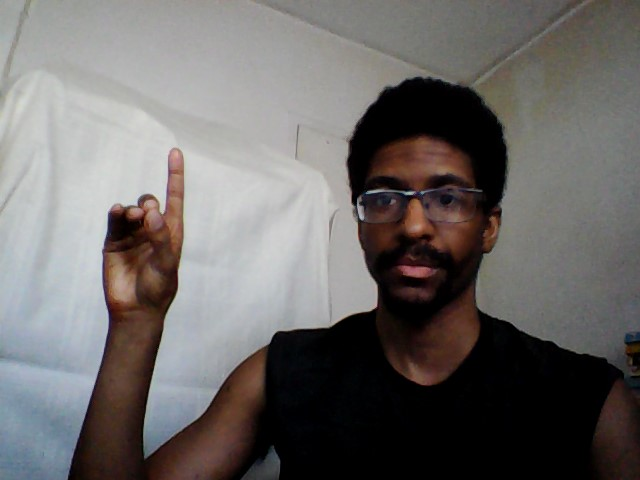d: (98, 142, 189, 318)
